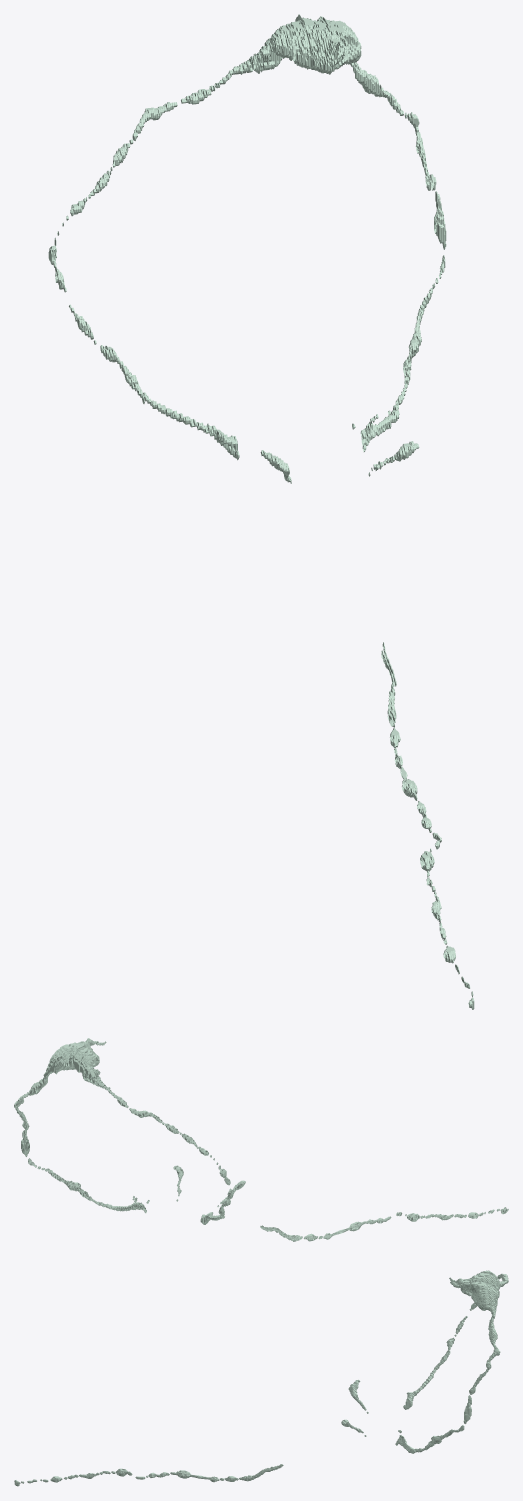
Rendered from SVV_RMEV.gltf.
3 renders of one model, top to bottom at view 1: azimuth 30°, elevation 25°; view 2: azimuth 150°, elevation 25°; view 3: azimuth 270°, elevation 25°, orthographic. The views are drawn at different scales.
Parts seen in each view (by area): view 1: RMEV; view 2: RMEV; view 3: RMEV.
Part boxes in pixels (bbox=[...]): RMEV: bbox=[48, 14, 474, 1009]; RMEV: bbox=[14, 1038, 508, 1241]; RMEV: bbox=[14, 1270, 508, 1486].
Bounding box in the file's own units: 125530 × 160311 × 250693.
